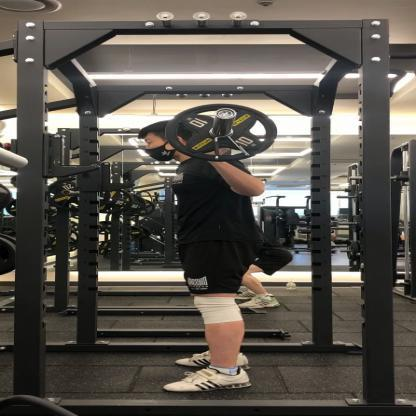barbell: (165, 101, 279, 164)
